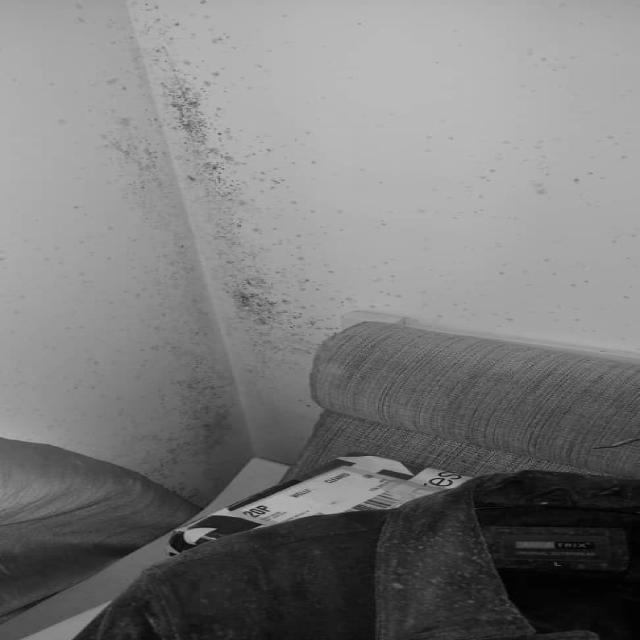stain marks: (25, 0, 458, 500), (446, 102, 640, 346), (489, 36, 613, 83)
